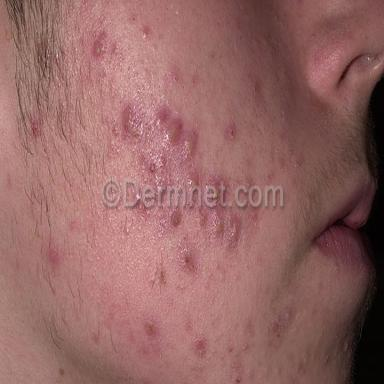acne: (155, 105, 198, 159), (122, 104, 143, 136), (269, 309, 292, 336), (227, 219, 241, 248), (92, 30, 106, 58), (210, 213, 223, 238), (48, 246, 61, 271), (193, 335, 206, 357), (145, 317, 158, 334), (233, 363, 244, 383), (166, 67, 179, 81), (225, 122, 235, 140), (185, 253, 194, 271), (171, 211, 181, 227), (142, 25, 151, 39), (149, 160, 157, 173), (199, 212, 205, 227), (191, 74, 198, 85), (32, 121, 37, 135), (113, 126, 118, 136)
